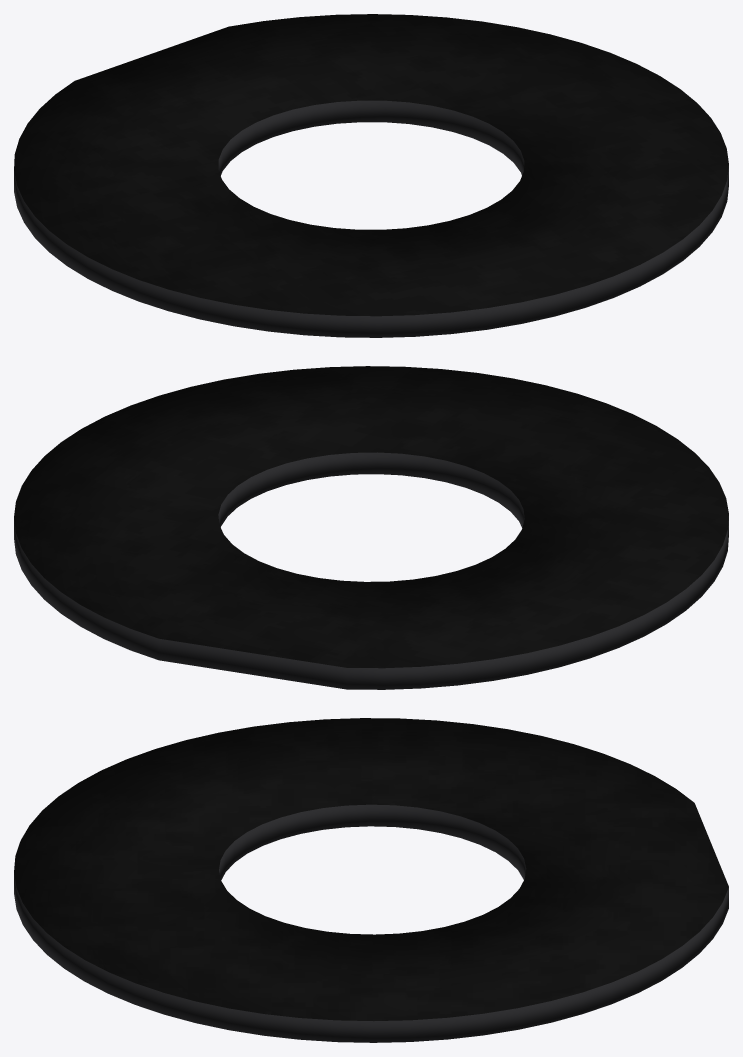
The picture shows the model from 3 angles, top to bottom: view 1: azimuth 30°, elevation 25°; view 2: azimuth 150°, elevation 25°; view 3: azimuth 270°, elevation 25°; orthographic projection.
Parts seen in each view (by area): view 1: wear_plate_A; view 2: wear_plate_A; view 3: wear_plate_A.
Part boxes in pixels (x1,y1,x2,y2): wear_plate_A: (14, 14, 728, 337); wear_plate_A: (14, 366, 728, 689); wear_plate_A: (14, 718, 728, 1042).
Size of the model in its own units: 44.79 by 1.5 by 44.65.
2 materials, 1 textured.
